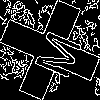M: (25, 25, 83, 81)
